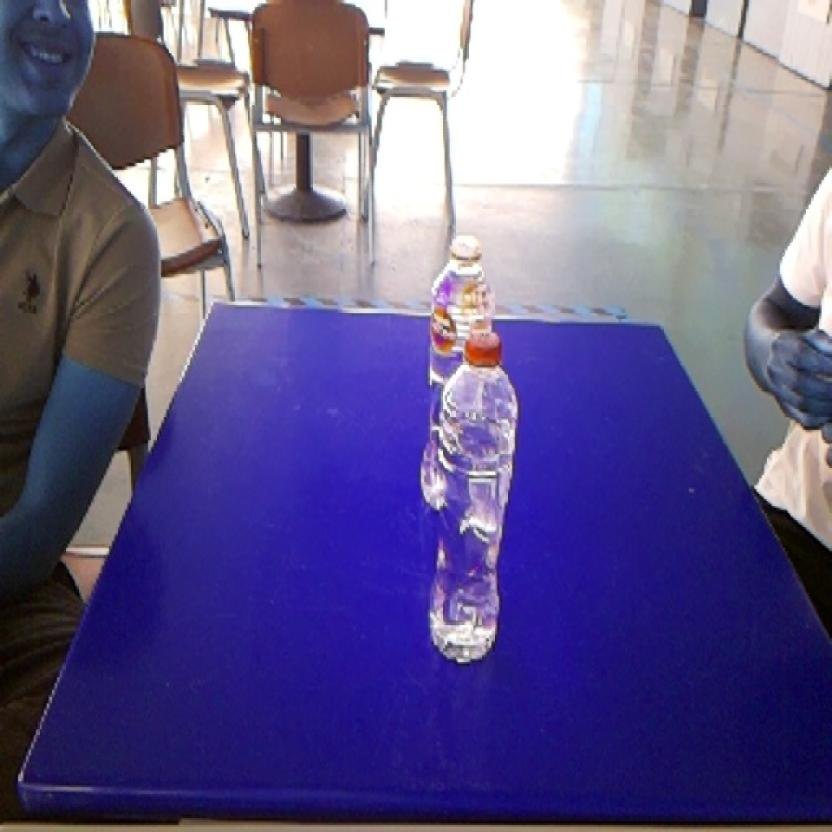no_cap: (421, 221, 507, 320)
no_label: (419, 321, 522, 675)
